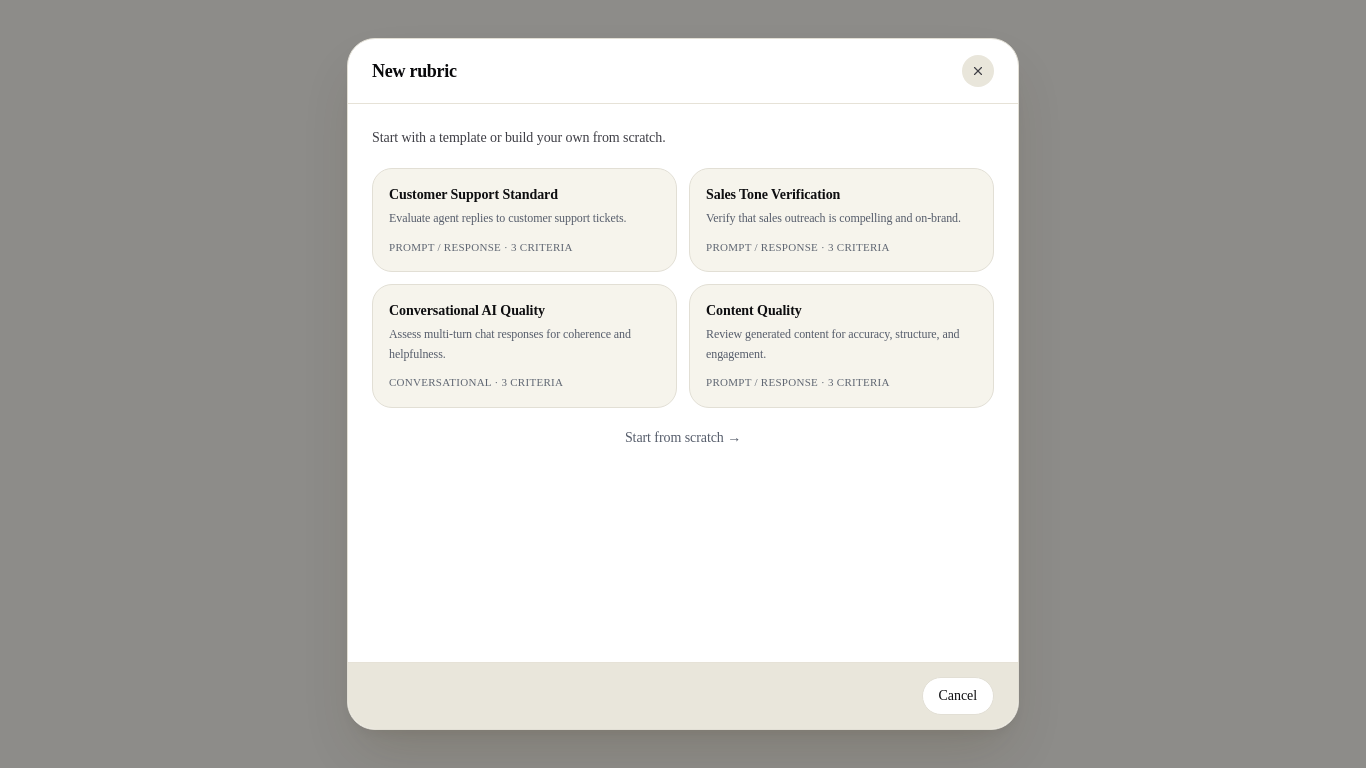
Test case: RubricDialog — create mode › pre-populates the form when a template is selected
This screenshot has width=1366, height=768.
Click the button with test id "template-card-customer-support-standard" at [524, 220], box x1=372 y1=168 x2=677 y2=272
(page scrolled)
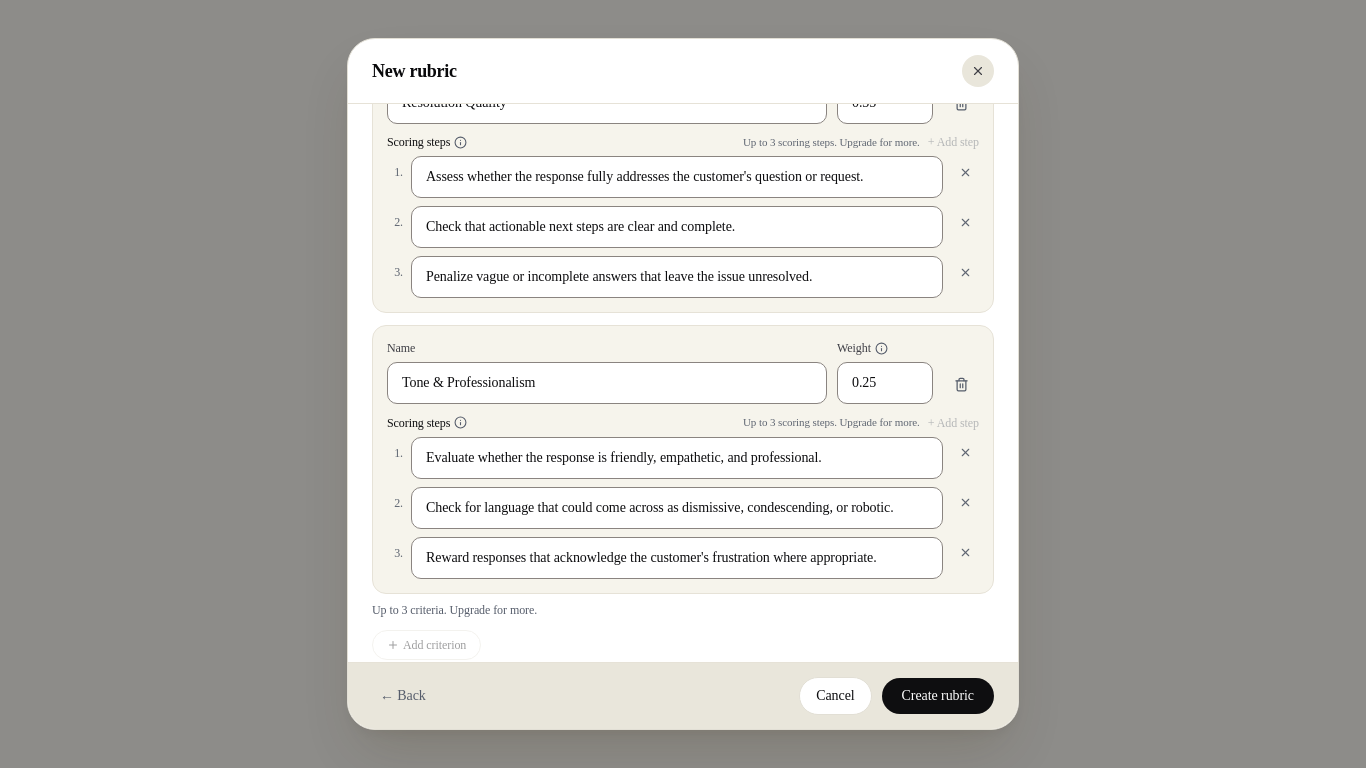
Expected: the field showing "Tone & Professionalism" is shown, x1=387 y1=362 x2=827 y2=404
